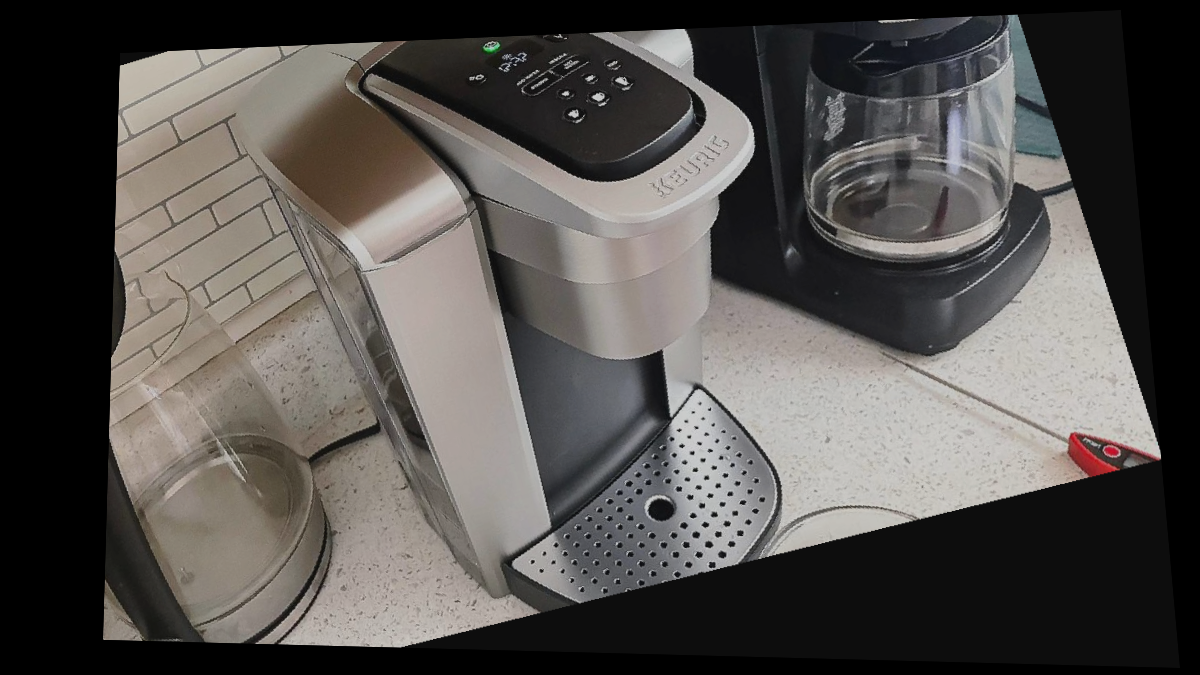10oz: (581, 82, 617, 116)
12oz: (607, 66, 641, 98)
4oz: (553, 80, 581, 106)
6oz: (578, 66, 606, 92)
8oz: (556, 98, 592, 132)
add_water: (512, 63, 542, 89)
coffee_handle: (661, 138, 771, 232)
descale: (541, 45, 572, 71)
hot: (553, 49, 591, 82)
iced: (600, 52, 627, 78)
platform: (637, 485, 684, 532)
power: (478, 40, 503, 54)
strong: (521, 69, 559, 101)
water_handle: (360, 204, 478, 284)
